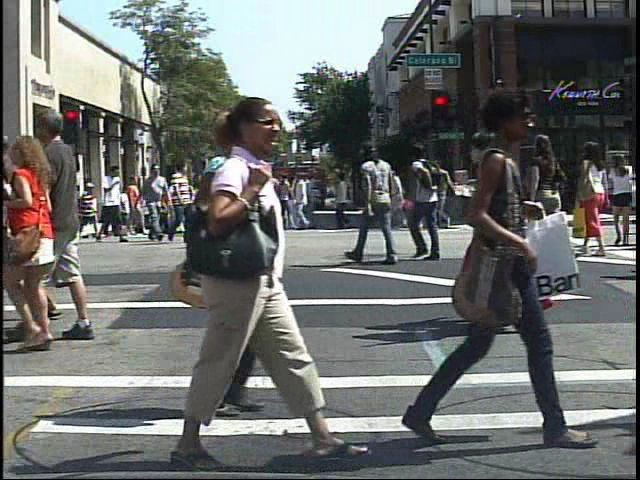person: (390, 78, 577, 461), (148, 82, 327, 477), (439, 128, 554, 346), (27, 101, 107, 346), (14, 126, 79, 351), (351, 135, 409, 274), (492, 129, 527, 344), (528, 126, 573, 262), (408, 142, 454, 264), (579, 136, 615, 260), (215, 147, 250, 250), (611, 147, 639, 247), (140, 159, 172, 245), (166, 158, 198, 243), (99, 162, 130, 245), (385, 164, 411, 236), (74, 179, 101, 244), (80, 183, 100, 227)
